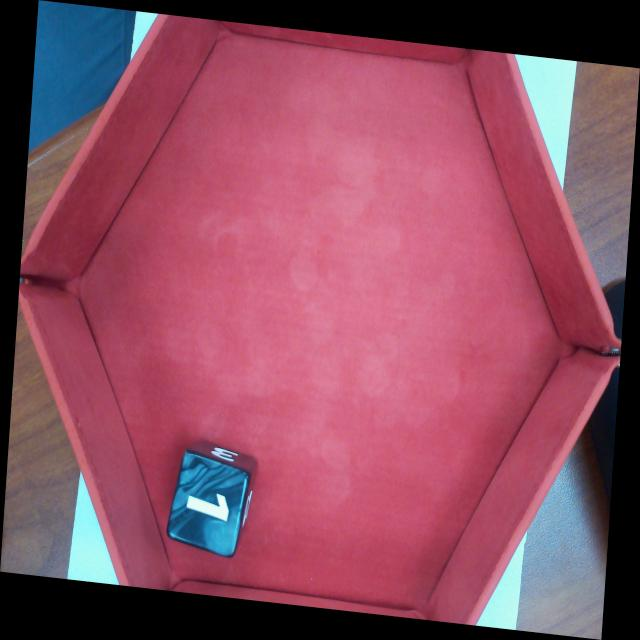dice: (164, 448, 252, 561)
